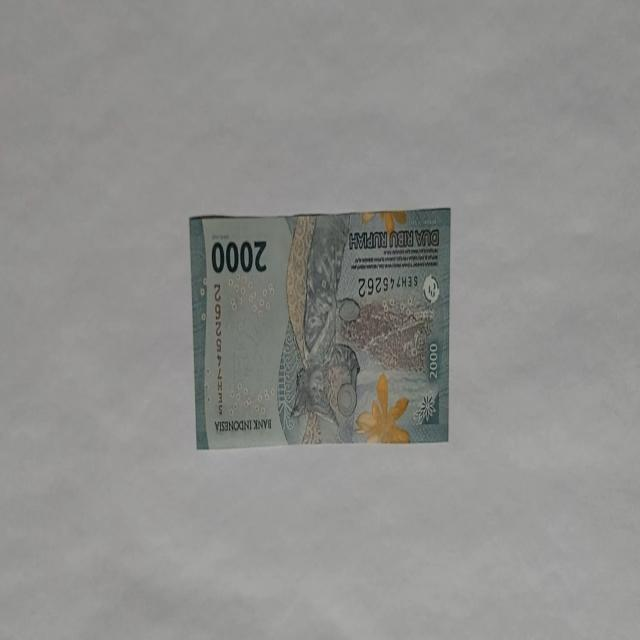dua ribu rupiah: (188, 208, 452, 450), (276, 212, 362, 444)
